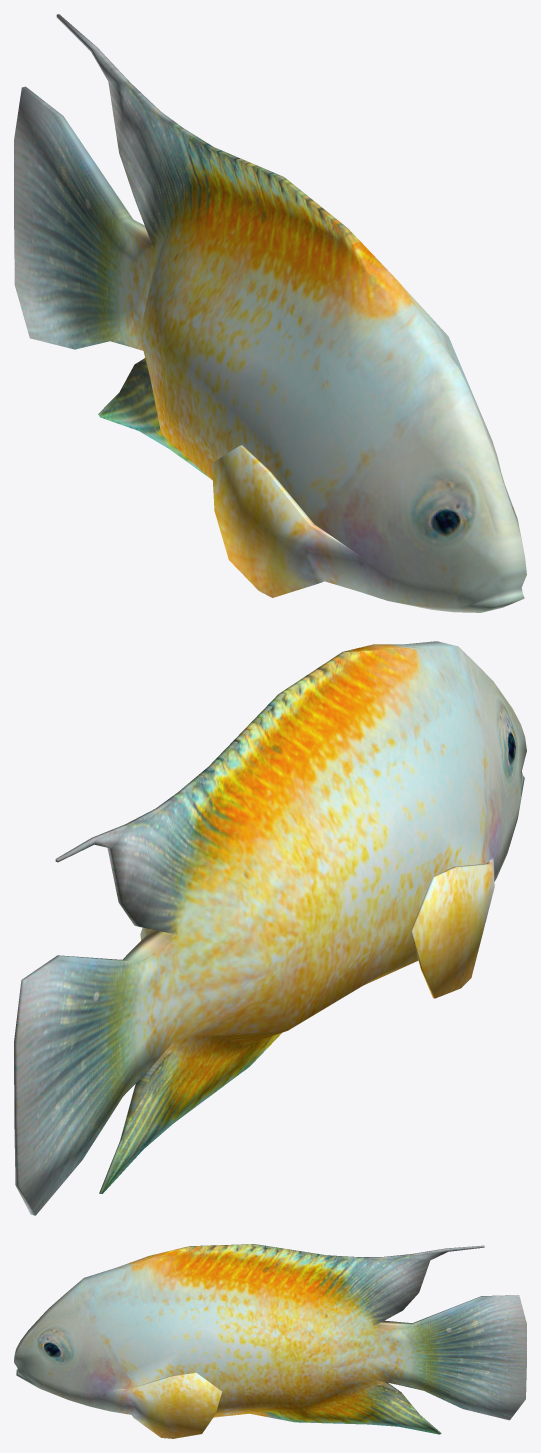
File: TropicalFish14.fbx
The picture shows the model from 3 angles, top to bottom: view 1: azimuth 30°, elevation 25°; view 2: azimuth 150°, elevation 25°; view 3: azimuth 270°, elevation 25°; orthographic projection. The views are drawn at different scales.
Visible parts, largest first — view 1: TropicalFish14; view 2: TropicalFish14; view 3: TropicalFish14.
Part boxes in pixels (bbox=[...]): TropicalFish14: bbox=[14, 14, 526, 612]; TropicalFish14: bbox=[14, 641, 526, 1215]; TropicalFish14: bbox=[14, 1244, 526, 1438].
Bounding box in the file's own units: 117 × 482 × 197.
